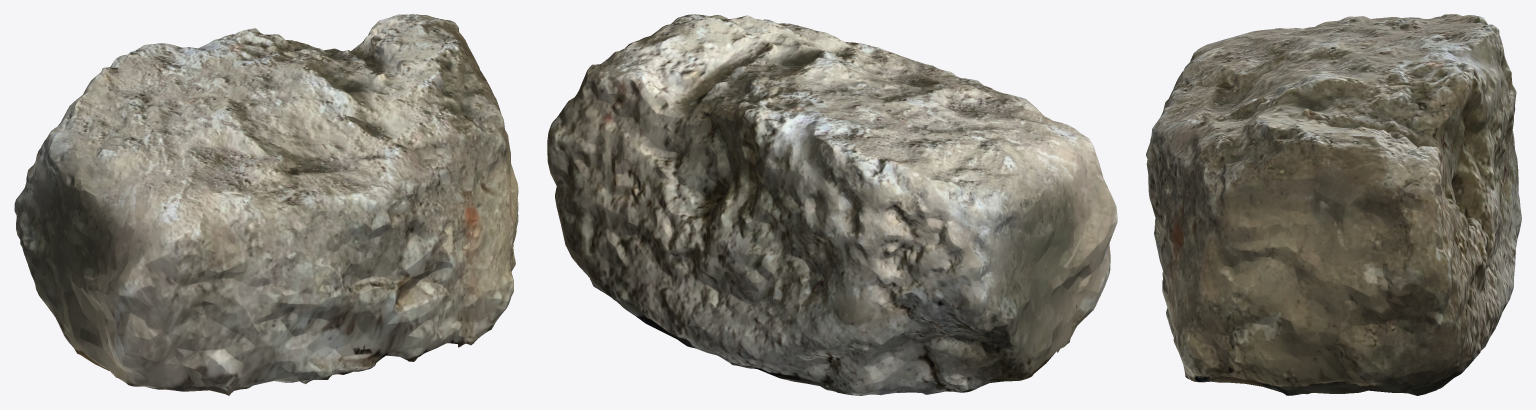
File: FRAG-S1-FS-005.glb
3 renders of one model, left to right at view 1: azimuth 30°, elevation 25°; view 2: azimuth 150°, elevation 25°; view 3: azimuth 270°, elevation 25°, orthographic. The views are drawn at different scales.
Parts seen in each view (by area): view 1: FRAG-S1-FS-005; view 2: FRAG-S1-FS-005; view 3: FRAG-S1-FS-005.
Part boxes in pixels (x1,y1,x2,y2): FRAG-S1-FS-005: (14,14,518,395); FRAG-S1-FS-005: (547,14,1117,395); FRAG-S1-FS-005: (1146,14,1521,395).
Size of the model in its own units: 1.16 by 0.6182 by 0.794.
Materials: 1 (1 with a texture image).
